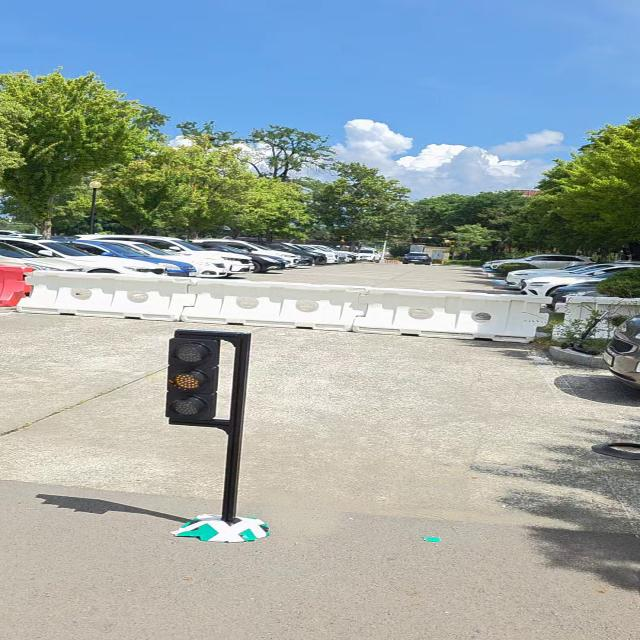yellow: (165, 338, 220, 420)
